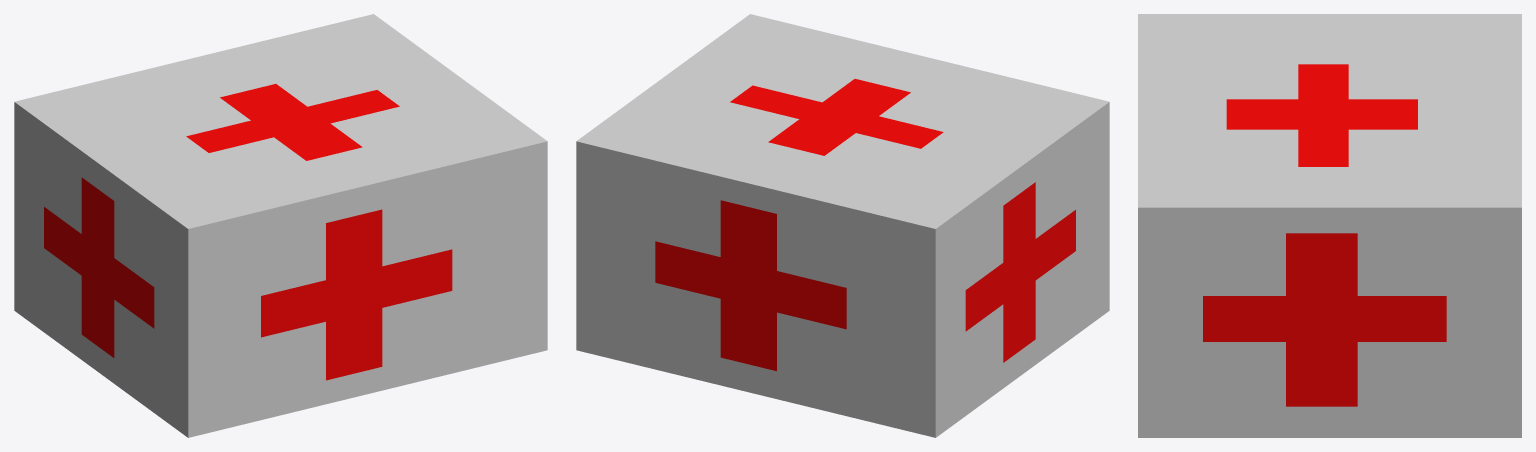
Rendered from MedKit.fbx.
3 renders of one model, left to right at view 1: azimuth 30°, elevation 25°; view 2: azimuth 150°, elevation 25°; view 3: azimuth 270°, elevation 25°, orthographic. The views are drawn at different scales.
Parts seen in each view (by area): view 1: Model; view 2: Model; view 3: Model.
Boxes of the visible parts, x1,y1,x2,y2 form: Model: (14, 14, 547, 437); Model: (576, 14, 1109, 437); Model: (1138, 14, 1521, 437).
Bounding box in the file's own units: 113 × 62.56 × 94.44.
